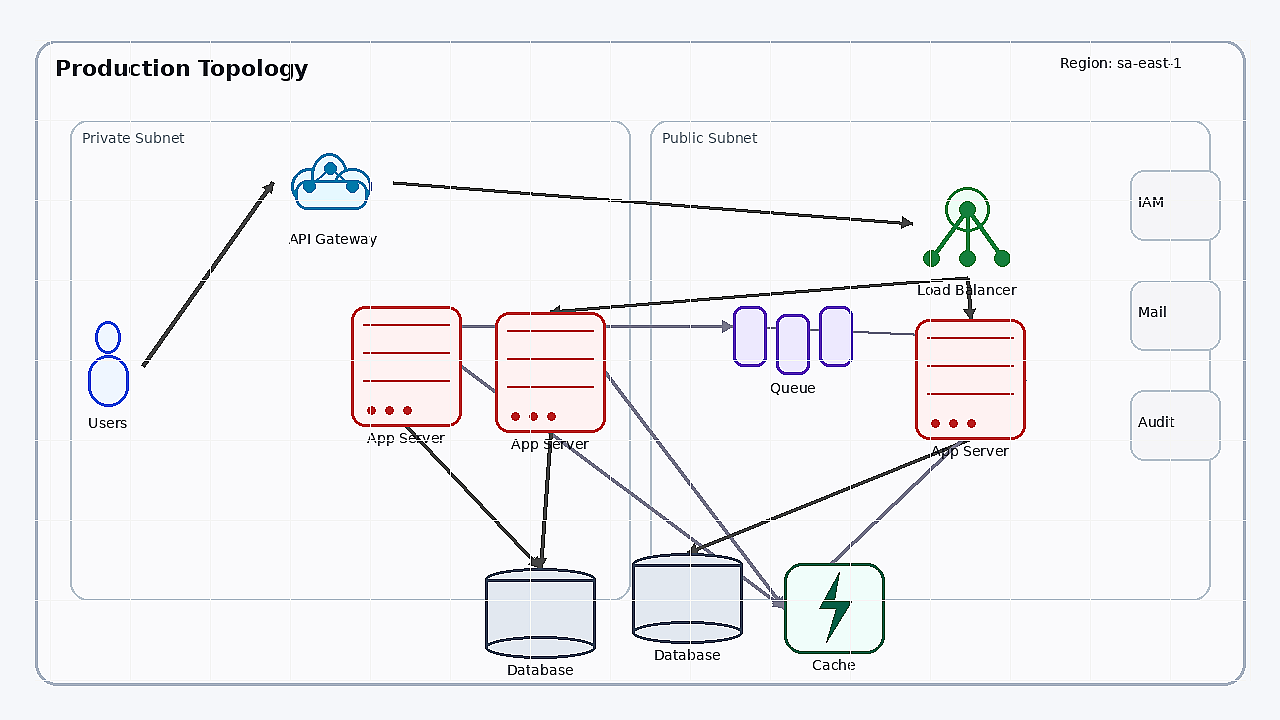API Gateway: (273, 137, 393, 227)
Application Server: (351, 306, 461, 426), (495, 312, 605, 432), (915, 319, 1025, 439)
Cache: (784, 563, 884, 653)
Database: (632, 553, 742, 643), (485, 568, 595, 658)
Load Balancer: (912, 168, 1022, 278)
Message Queue: (733, 306, 853, 376)
User: (73, 321, 143, 411)
